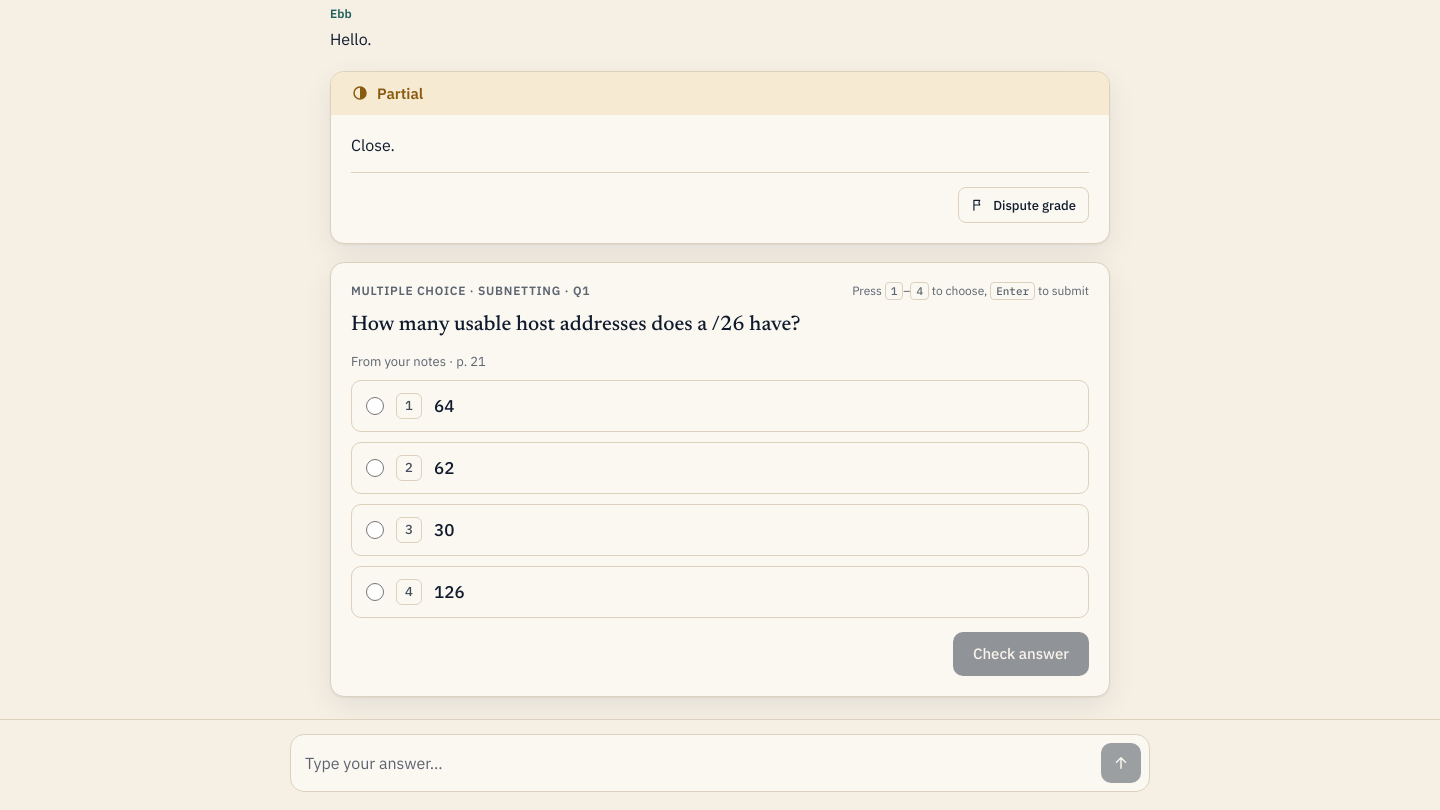
Test: Thread › puts a refused dispute's card back as it was, with the error shown
The image size is (1440, 810).
(page scrolled)
Step 1. Click the button "Dispute grade" → (1024, 205), box [958,187,1089,223]
(page scrolled)
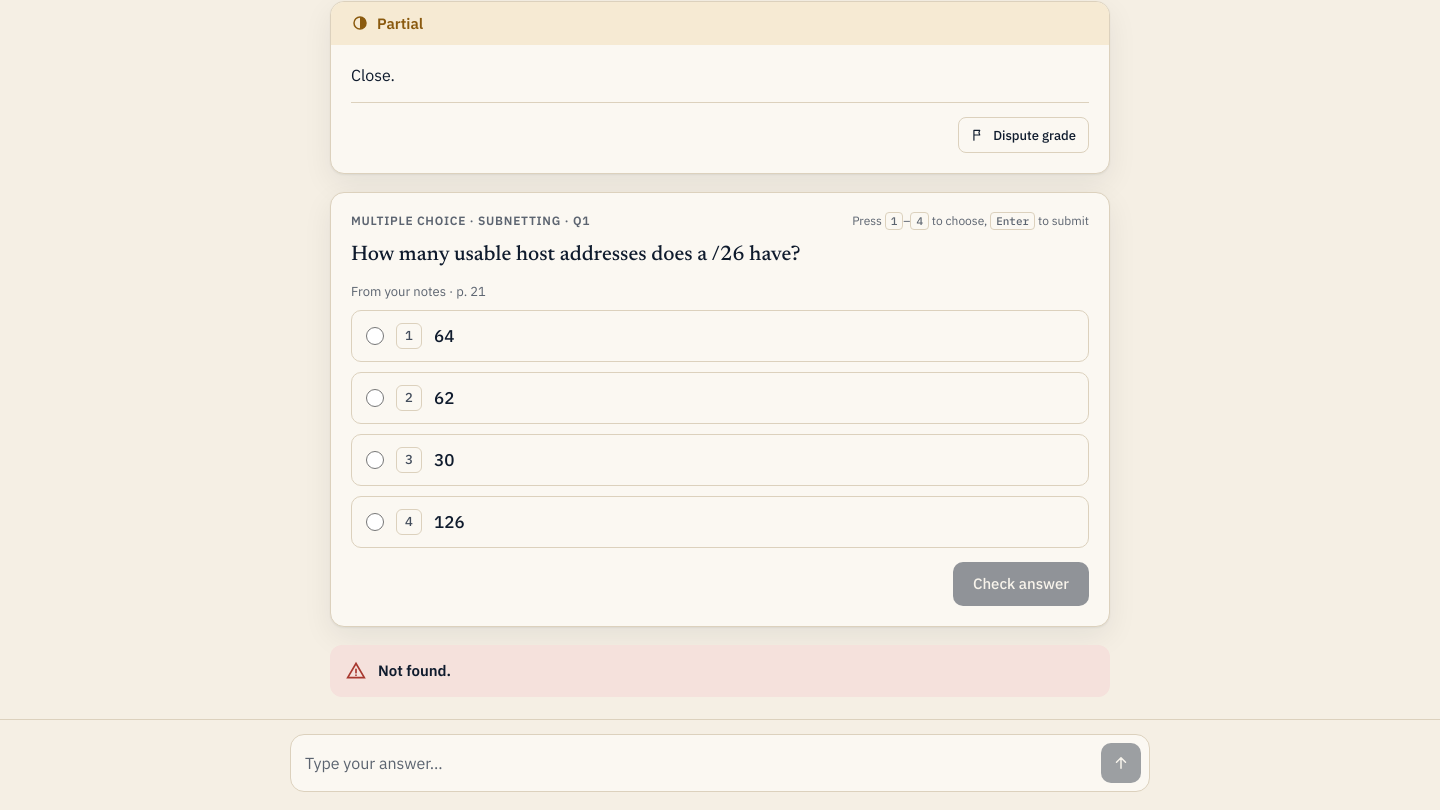
Check: the button "Dispute grade" is shown, box [958,117,1089,153]
Check: the message reads "Not found.", box [378,660,451,680]
